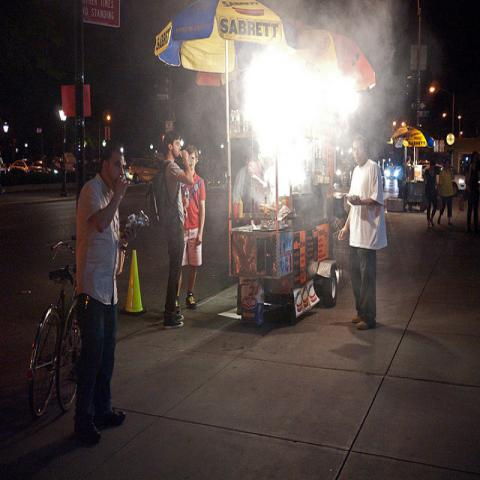car: (423, 163, 466, 196), (128, 158, 162, 184), (29, 160, 60, 179), (8, 161, 32, 173), (384, 166, 398, 179)
